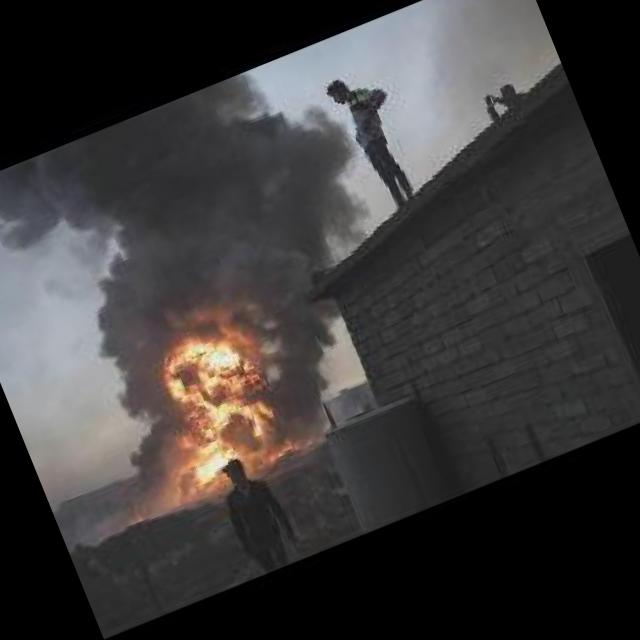fire: (115, 296, 305, 505), (125, 510, 142, 522)
smoke: (0, 40, 403, 404)
